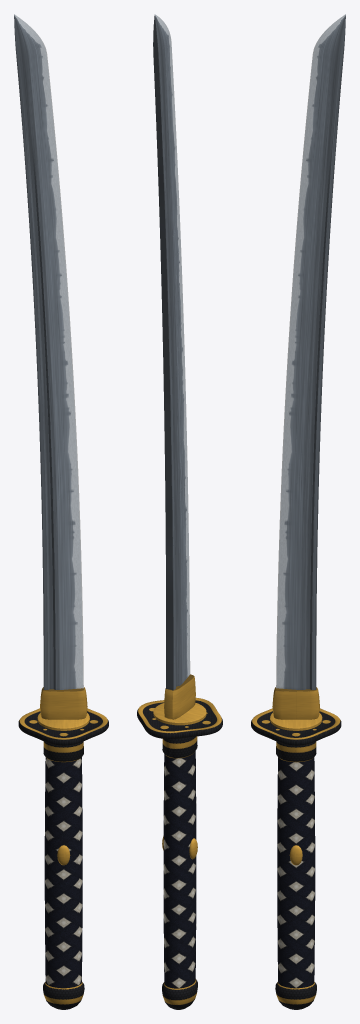
File: Katana.fbx
3 renders of one model, left to right at view 1: azimuth 90°, elevation 25°; view 2: azimuth 150°, elevation 25°; view 3: azimuth 270°, elevation 25°, orthographic.
Parts seen in each view (by area): view 1: Katana; view 2: Katana; view 3: Katana.
Part boxes in pixels (<box>): Katana: <box>14,14,108,1009</box>; Katana: <box>137,14,222,1009</box>; Katana: <box>251,14,345,1009</box>.
Bounding box in the file's own units: 0.0849 × 1.03 × 0.0892.
